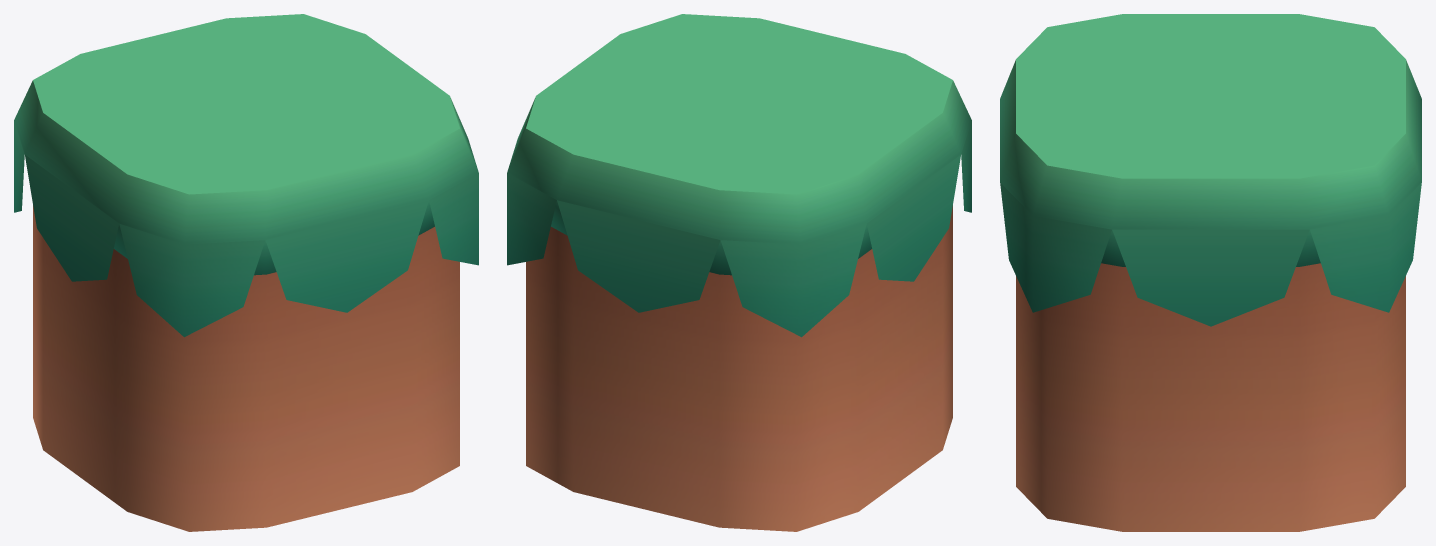
The model's file is kenney-platformer-block-grass-overhang-corner.glb.
3 renders of one model, left to right at view 1: azimuth 30°, elevation 25°; view 2: azimuth 150°, elevation 25°; view 3: azimuth 270°, elevation 25°, orthographic. The views are drawn at different scales.
Visible parts, largest first — view 1: block-grass-overhang-corner; view 2: block-grass-overhang-corner; view 3: block-grass-overhang-corner.
Part boxes in pixels (box(x1,y1,x2,y2)): block-grass-overhang-corner: box(14, 14, 478, 531); block-grass-overhang-corner: box(507, 14, 971, 531); block-grass-overhang-corner: box(1000, 14, 1421, 531).
Size of the model in its own units: 1.08 by 1 by 1.08.
1 material, 1 textured.
